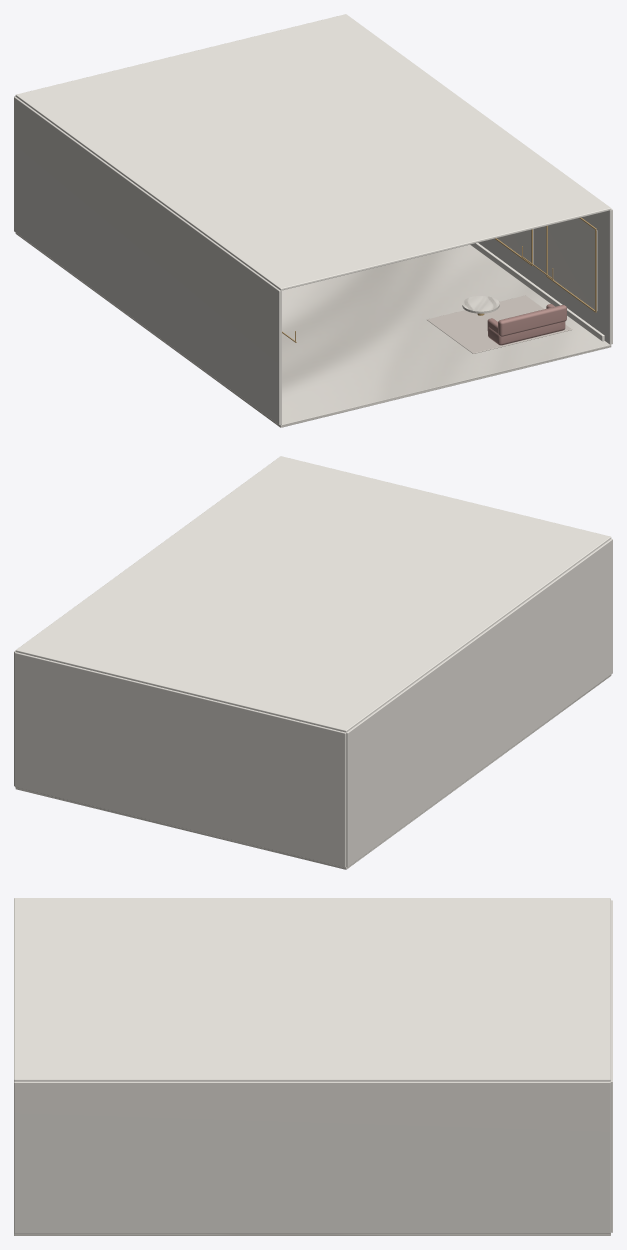
File: moli-boutique-v2.glb
3 views of the same model, one above another, from view 1: azimuth 30°, elevation 25°; view 2: azimuth 150°, elevation 25°; view 3: azimuth 270°, elevation 25° (orthographic). The views are drawn at different scales.
Parts seen in each view (by area): view 1: Warm white ceiling, Left wall, Real textured Calacatta marble floor, Right wall, Wall panel inset.007, Lounge area rug, Sofa back, Ivory skirting.001, Rose sofa seat, Wall panel inset.006, Round marble table; view 2: Warm white ceiling, Rear wall, Left wall, Real textured Calacatta marble floor; view 3: Warm white ceiling, Right wall, Real textured Calacatta marble floor, Rear wall.
Boxes of the visible parts, x1,y1,x2,y2 form: Warm white ceiling: [15, 14, 611, 290]; Left wall: [14, 96, 281, 425]; Real textured Calacatta marble floor: [15, 233, 611, 427]; Right wall: [478, 209, 612, 344]; Wall panel inset.007: [548, 218, 597, 311]; Lounge area rug: [427, 295, 572, 353]; Sofa back: [498, 305, 566, 336]; Ivory skirting.001: [470, 243, 604, 341]; Rose sofa seat: [488, 321, 565, 345]; Wall panel inset.006: [497, 229, 533, 264]; Round marble table: [462, 296, 499, 313]; Warm white ceiling: [15, 456, 611, 732]; Rear wall: [14, 652, 346, 867]; Left wall: [346, 538, 612, 867]; Real textured Calacatta marble floor: [15, 675, 611, 869]; Warm white ceiling: [14, 898, 610, 1081]; Right wall: [14, 1081, 610, 1233]; Real textured Calacatta marble floor: [14, 1233, 610, 1235]; Rear wall: [610, 900, 612, 1232].
Bounding box in the file's own units: 18.18 × 7.24 × 25.09.
Materials: 9 (1 with a texture image).
